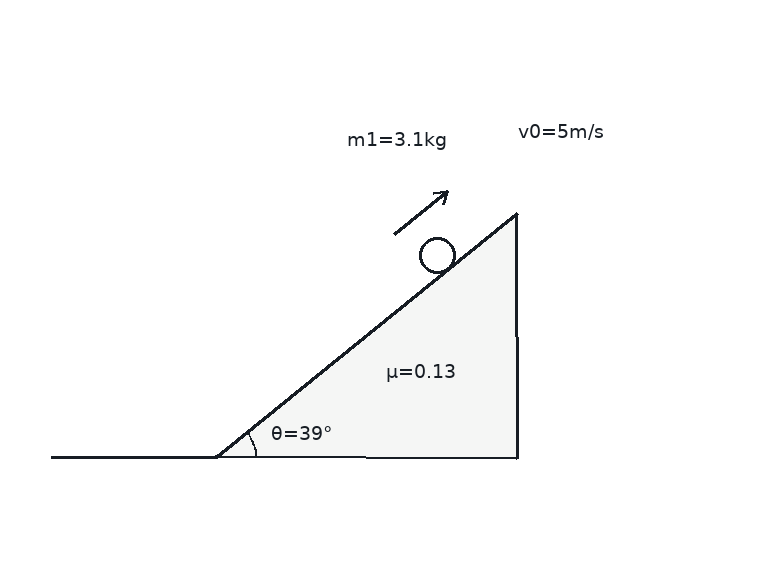ball: (417, 235, 457, 275)
ramp: (214, 212, 518, 459)
